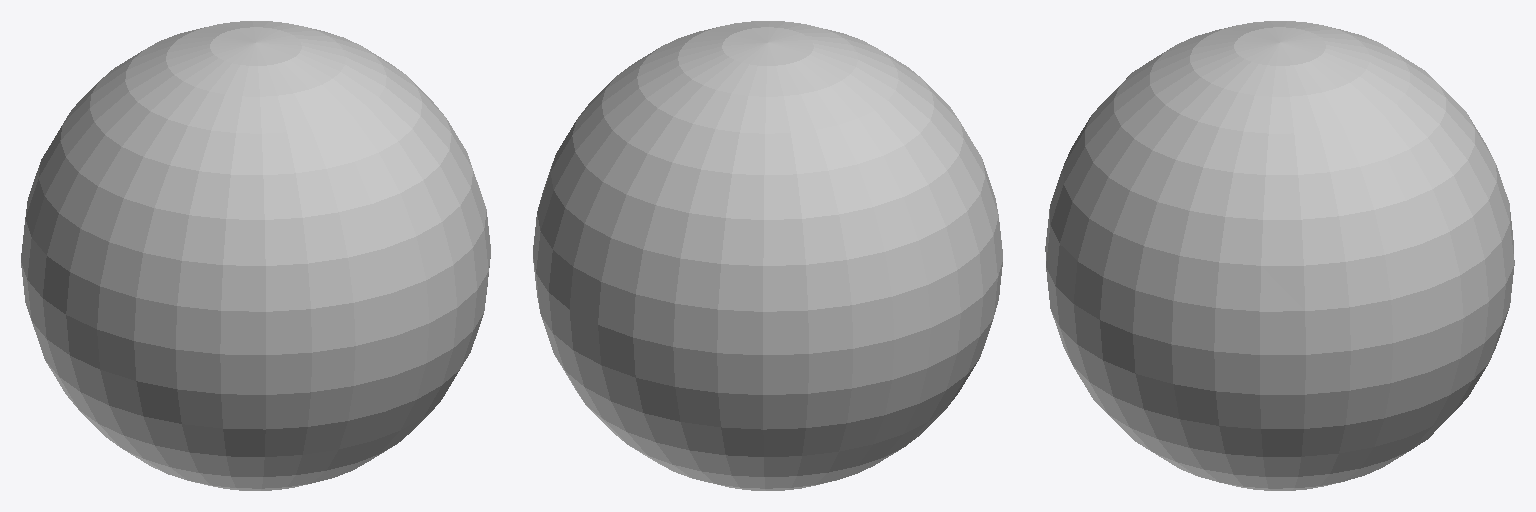
Rendered from mesh_bodyjoint_r1.obj.
3 renders of one model, left to right at view 1: azimuth 30°, elevation 25°; view 2: azimuth 150°, elevation 25°; view 3: azimuth 270°, elevation 25°, orthographic.
Visible parts, largest first — view 1: Sphere.001_Sphere.002; view 2: Sphere.001_Sphere.002; view 3: Sphere.001_Sphere.002.
Boxes of the visible parts, x1,y1,x2,y2 form: Sphere.001_Sphere.002: [21, 21, 490, 490]; Sphere.001_Sphere.002: [533, 21, 1002, 490]; Sphere.001_Sphere.002: [1045, 21, 1514, 490].
Bounding box in the file's own units: 0.2989 × 0.3 × 0.2989.